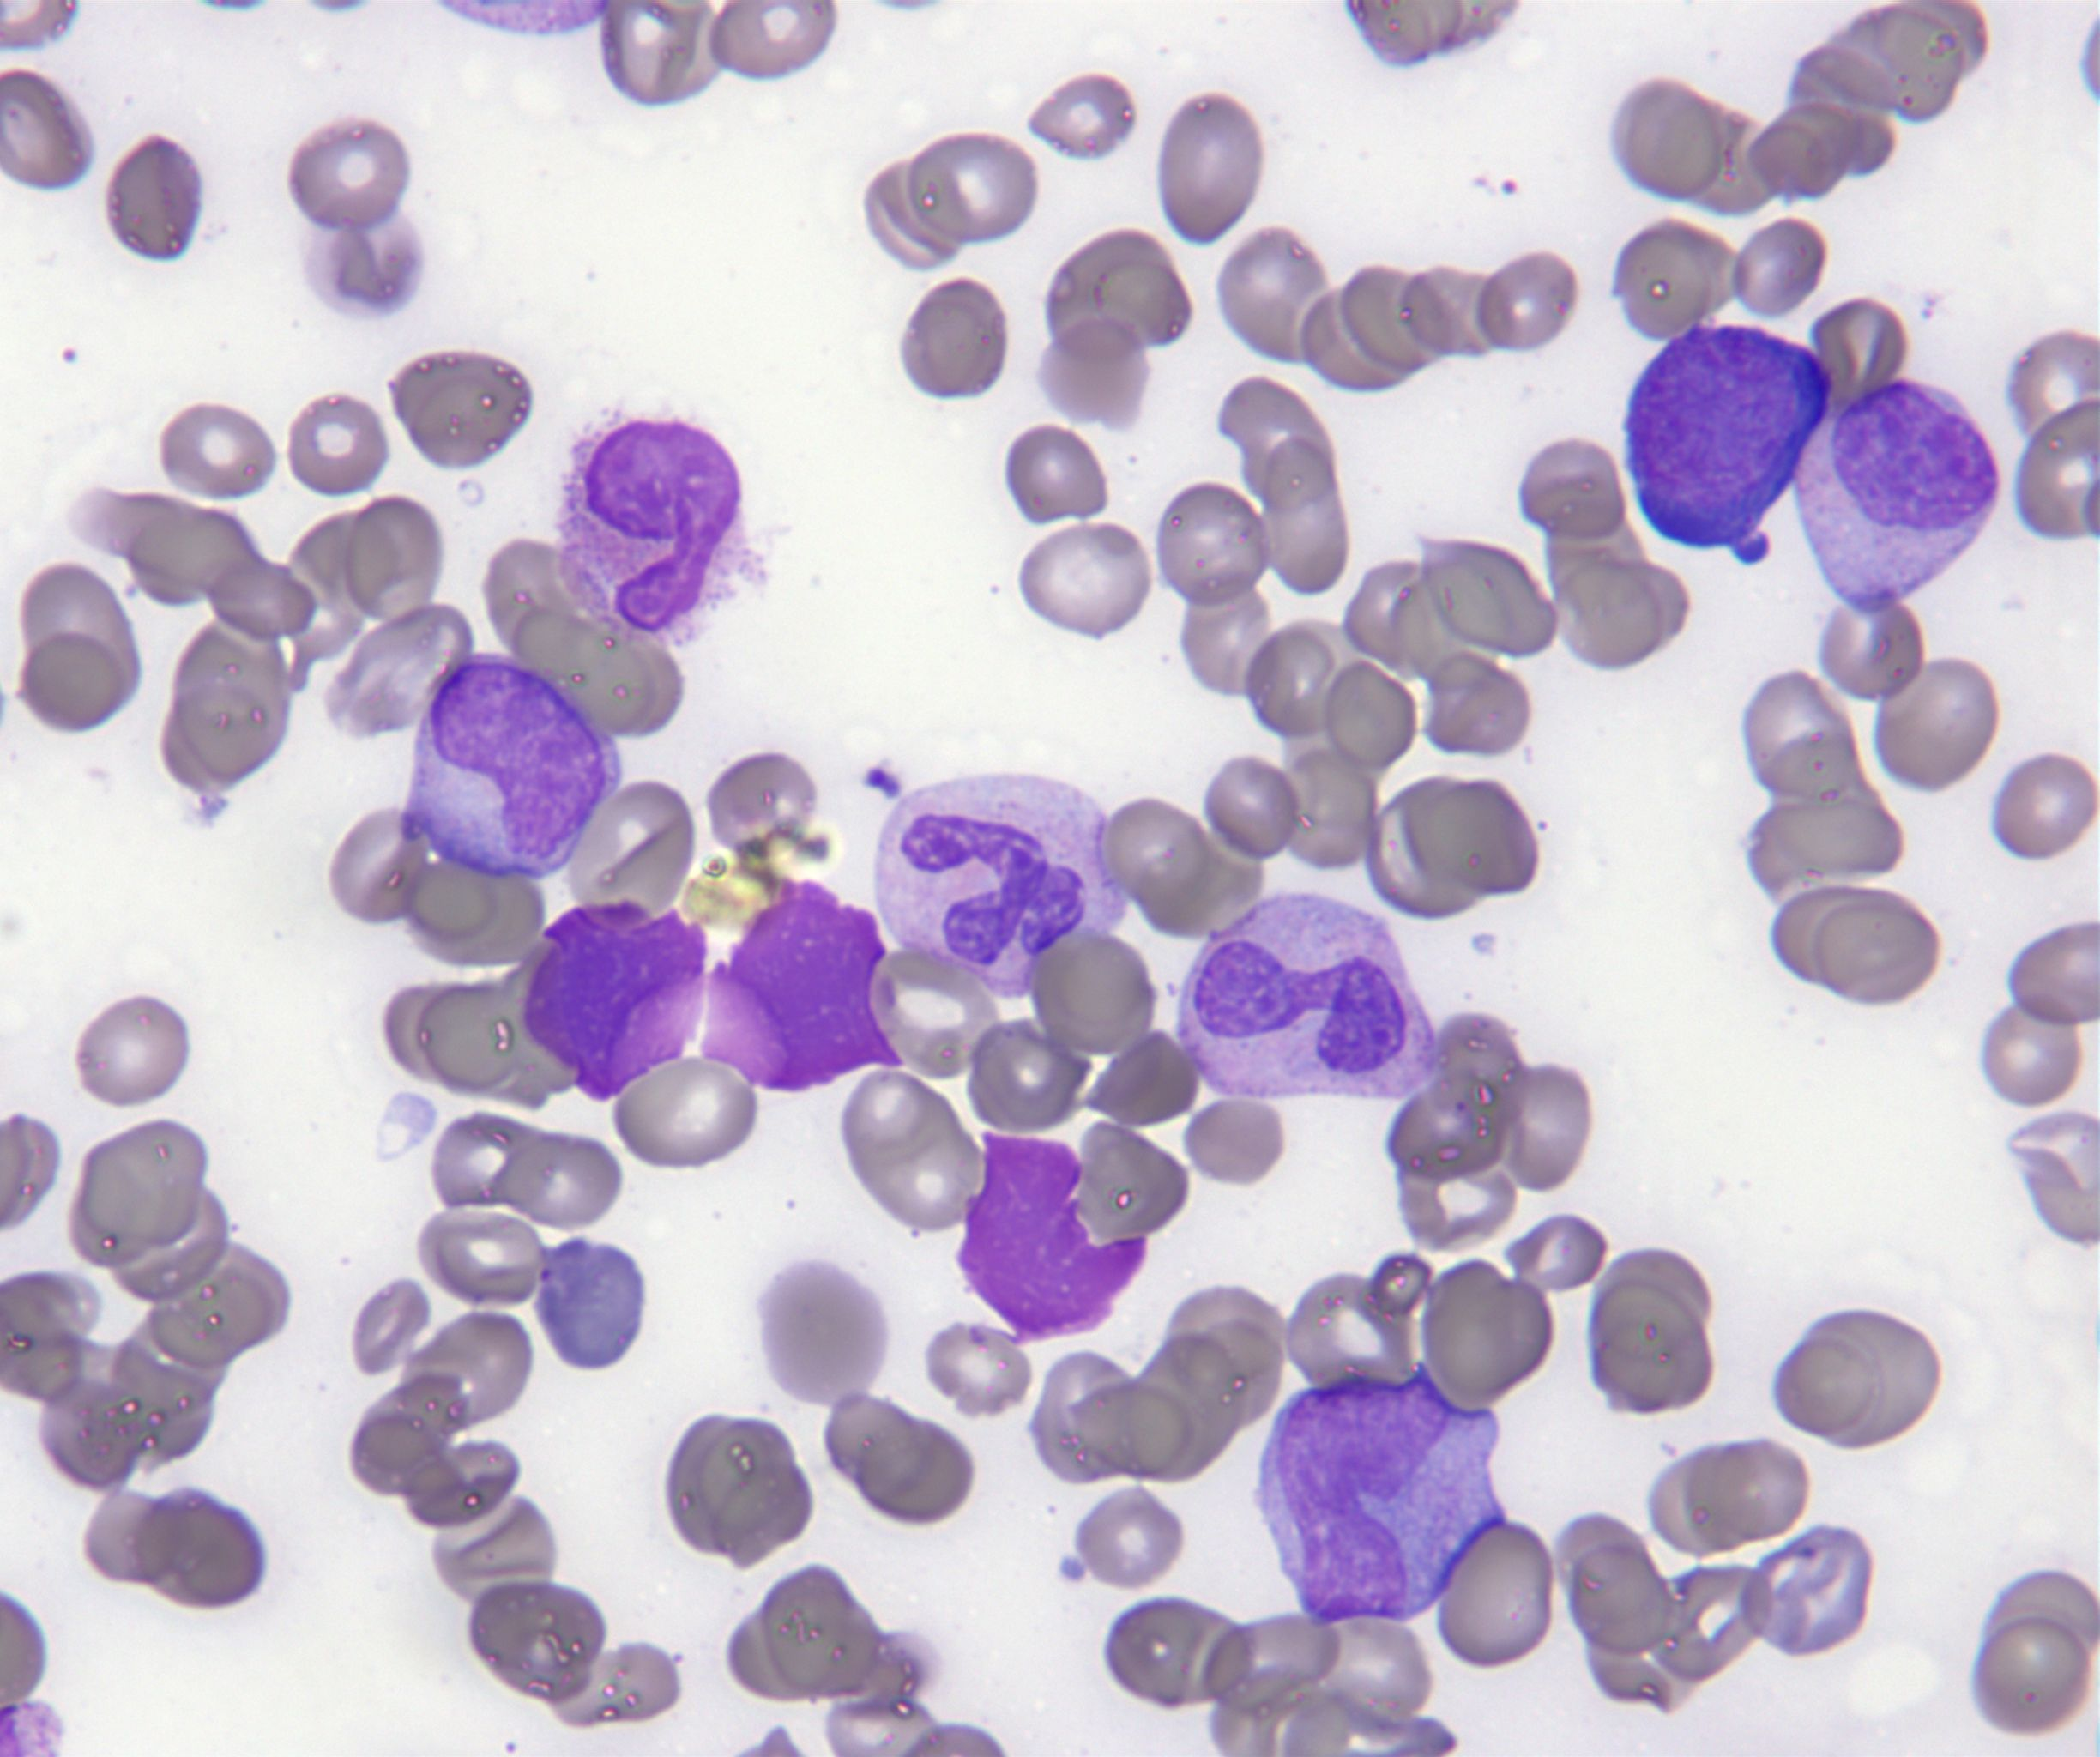22: (1626, 321, 1826, 562)
3: (398, 651, 621, 881), (1793, 380, 1999, 618)
42: (1254, 1363, 1510, 1628)
5: (1179, 892, 1441, 1101), (549, 403, 771, 647)
6: (874, 773, 1135, 998)
x: (958, 1131, 1153, 1349), (705, 879, 905, 1090), (522, 900, 708, 1101)
